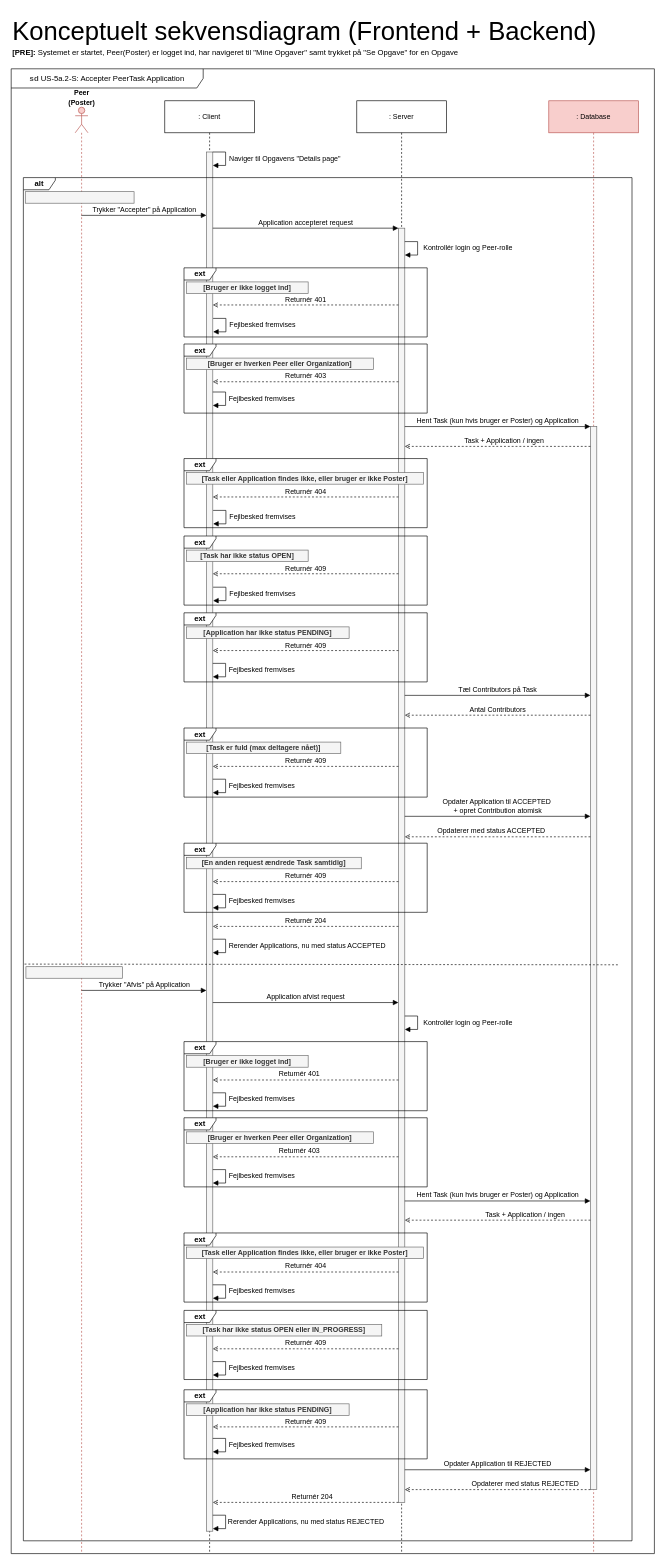
Some shapes in this 666 by 1565 pixel diagram are drawn without their labels. The box of each missing label's shape, as (x1, y1, x2, y2) in pixels:
[Application accepteres]: (25, 191, 134, 203)
[Application afvises]: (25, 966, 123, 978)
